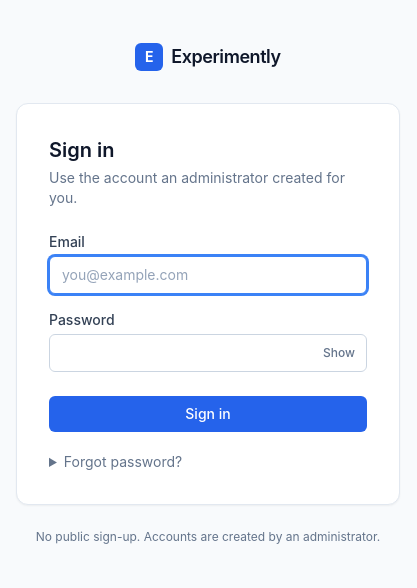
Test: LoginPage › shows the invalid-credentials message in a role="alert" box and refocuses email
In the field labelled "Email": (208, 275) [49,256,367,294], type "nobody@demo.com"
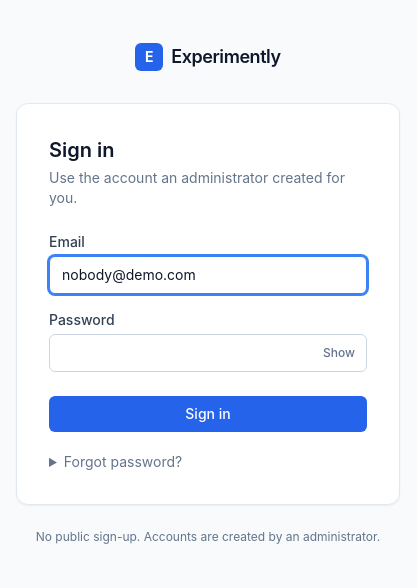
In the password field labelled "Password": (208, 353) [49,334,367,372], type "wrong"
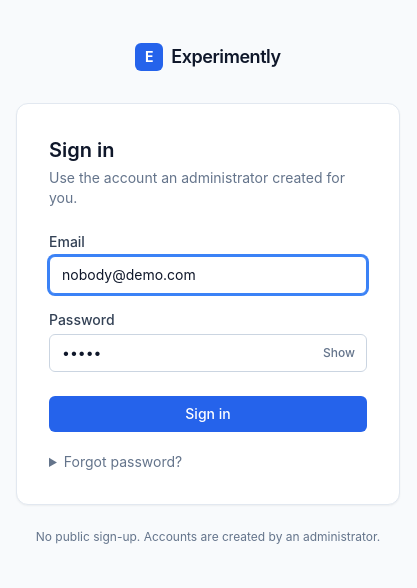
Click the button "Sign in": (208, 414) [49,396,367,432]
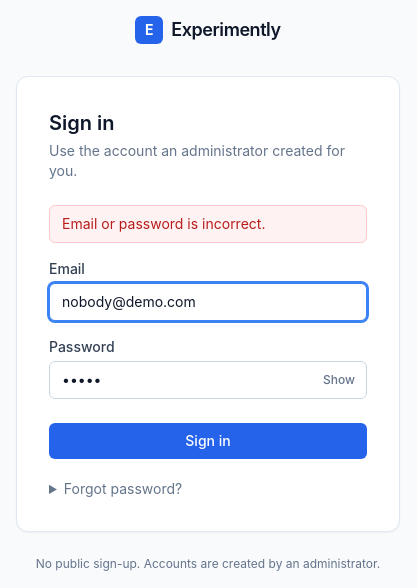
Expected: the button "Sign in" is enabled, [49,423,367,459]
Now the message reads "Email or password is incorrect.", box [62,215,265,232]
